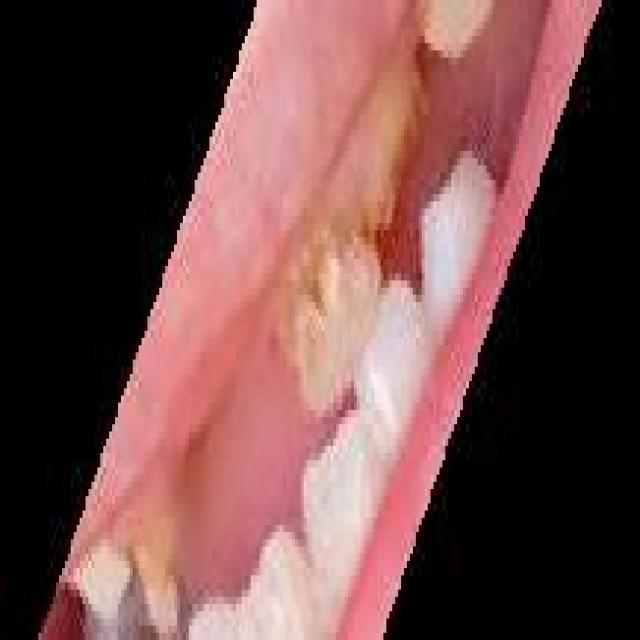caries: (289, 195, 371, 378)
